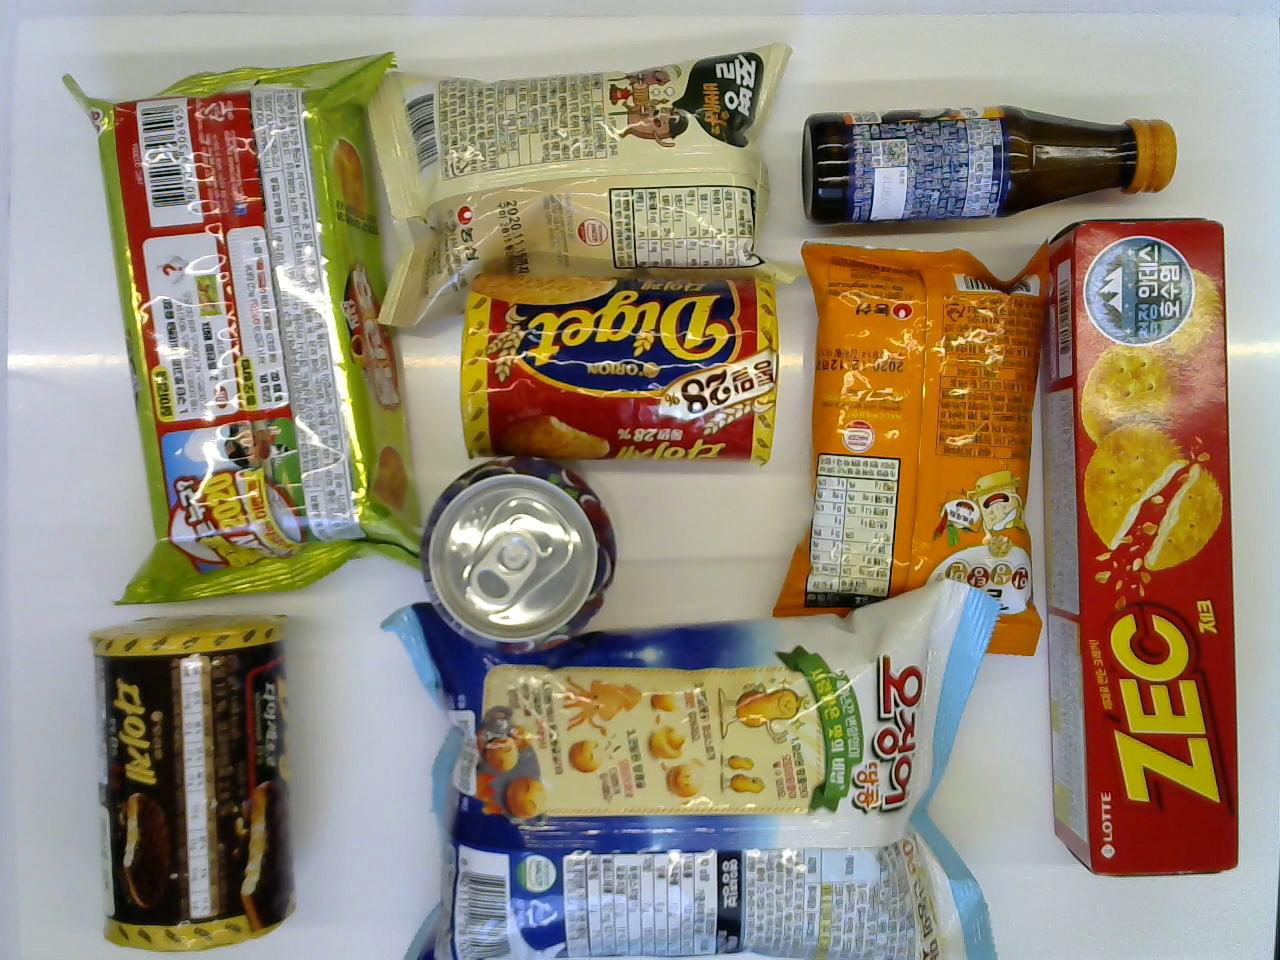diget_choco: (83, 610, 303, 950)
diget_ori: (453, 264, 780, 468)
homerunball: (55, 48, 432, 613)
jjolbyung_noodle: (772, 231, 1047, 657)
jjolbyung_ori: (362, 41, 803, 332)
squid_peanut: (374, 585, 1007, 955)
vita500: (796, 99, 1181, 228)
welchs: (417, 460, 615, 657)
zec: (1039, 213, 1239, 879)
